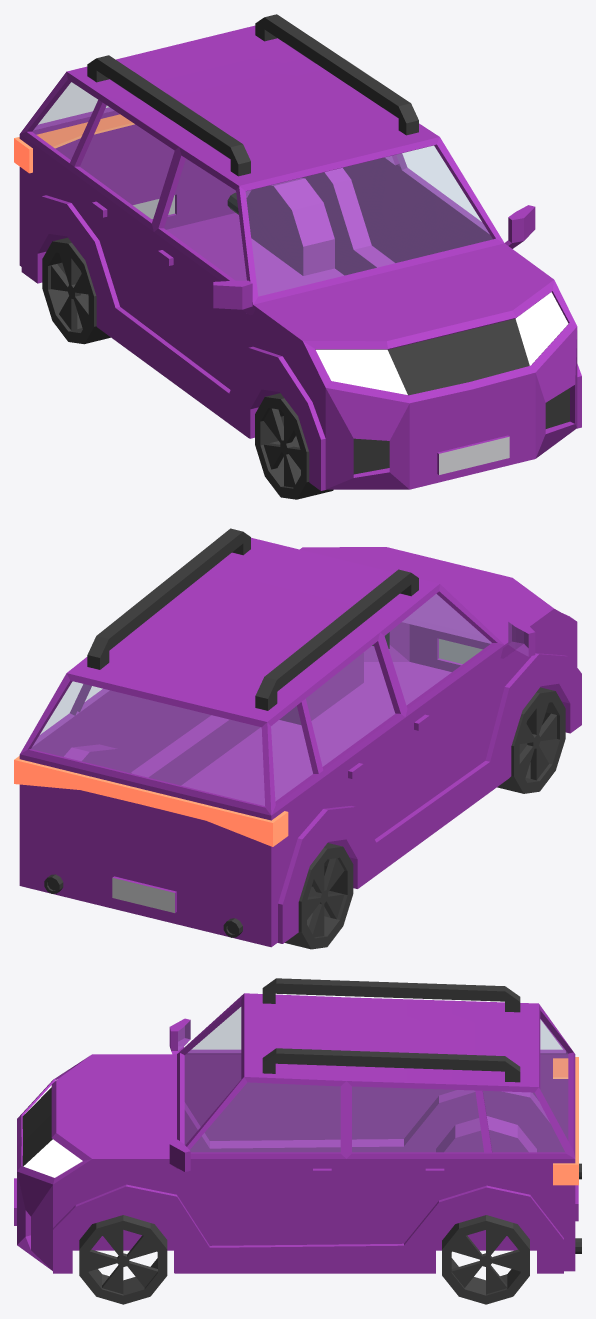
Rendered from suv.glb.
3 renders of one model, top to bottom at view 1: azimuth 30°, elevation 25°; view 2: azimuth 150°, elevation 25°; view 3: azimuth 270°, elevation 25°, orthographic. The views are drawn at different scales.
Parts seen in each view (by area): view 1: SUV, SUV wheel front right, SUV wheel rear right; view 2: SUV, SUV wheel rear right, SUV wheel front right; view 3: SUV, SUV wheel front left, SUV wheel rear left.
Boxes of the visible parts, <box> form: SUV: <box>14,14,581,490</box>; SUV wheel front right: <box>255,393,333,499</box>; SUV wheel rear right: <box>42,237,110,344</box>; SUV: <box>14,528,581,947</box>; SUV wheel rear right: <box>285,843,353,949</box>; SUV wheel front right: <box>497,687,565,793</box>; SUV: <box>14,978,581,1273</box>; SUV wheel front left: <box>79,1215,167,1304</box>; SUV wheel rear left: <box>442,1215,529,1304</box>.
Bounding box in the file's own units: 2.81 × 2.3 × 5.04.
